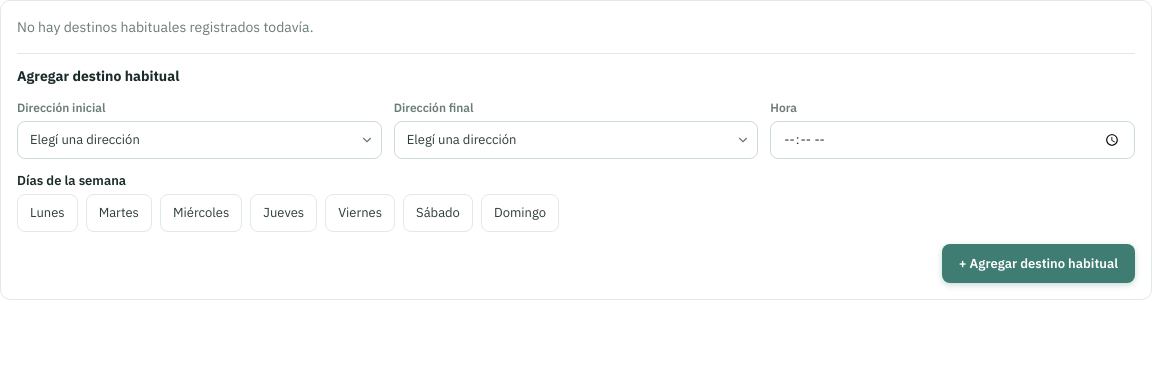
Scenario: RecorridosHabitualesEditor › un error de create() (23503, FK) se muestra traducido, sin agregar el destino a la lista
The width and height of the screenshot is (1152, 371).
Expected: the text "No hay destinos habituales registrados todavía." is shown, [17, 18, 314, 36]
Step 1. Select "Domicilio · Av. Siempreviva 742" in the dropdown labelled "Dirección inicial" → (199, 140), box [17, 121, 382, 158]
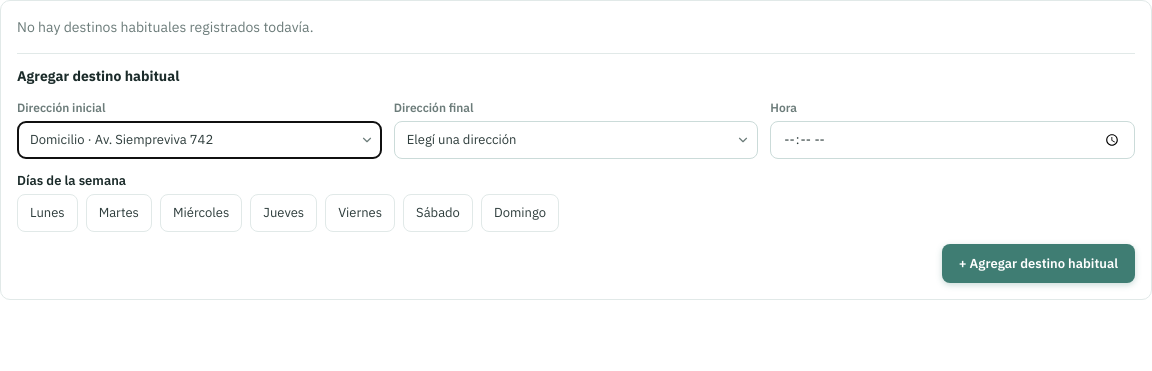
Step 2. Select "Escuela · Belgrano 100" in the dropdown labelled "Dirección final" → (576, 140), box [394, 121, 758, 158]
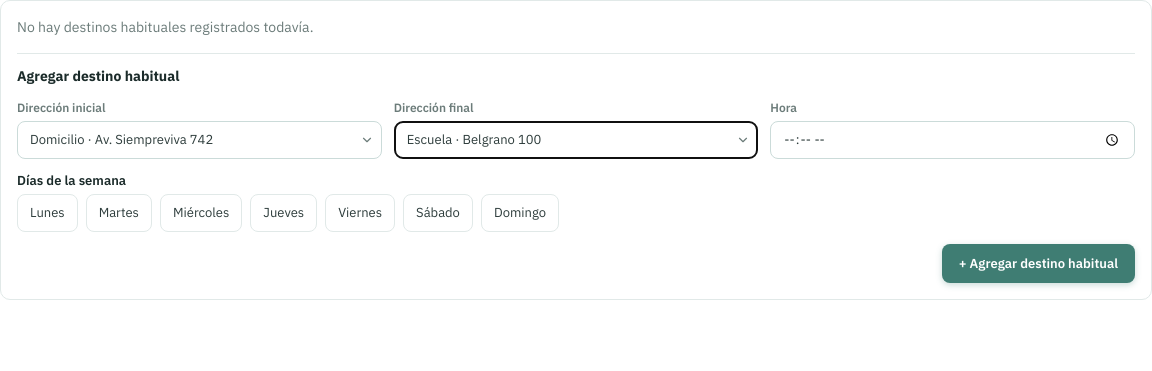
Step 3. Click the checkbox labelled "Lunes" → (47, 213), box [17, 194, 78, 232]
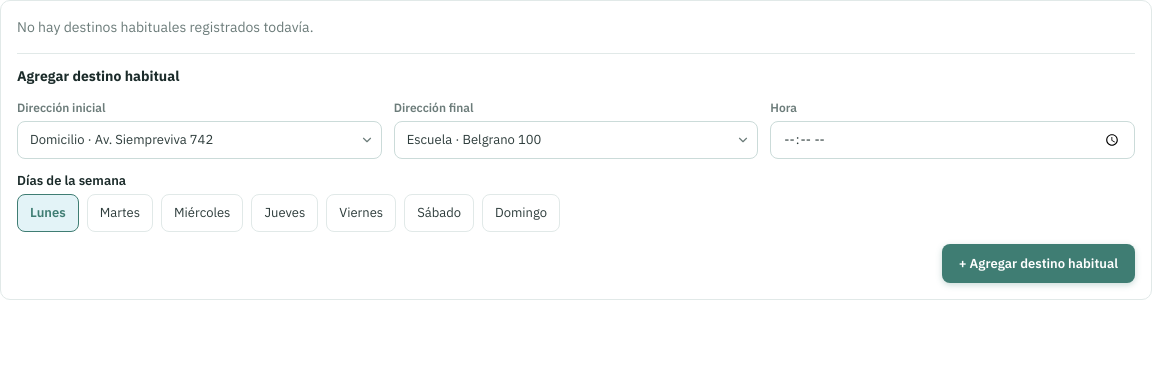
Step 4. Type "09:15" into the time field labelled "Hora" → (953, 140), box [770, 121, 1135, 159]
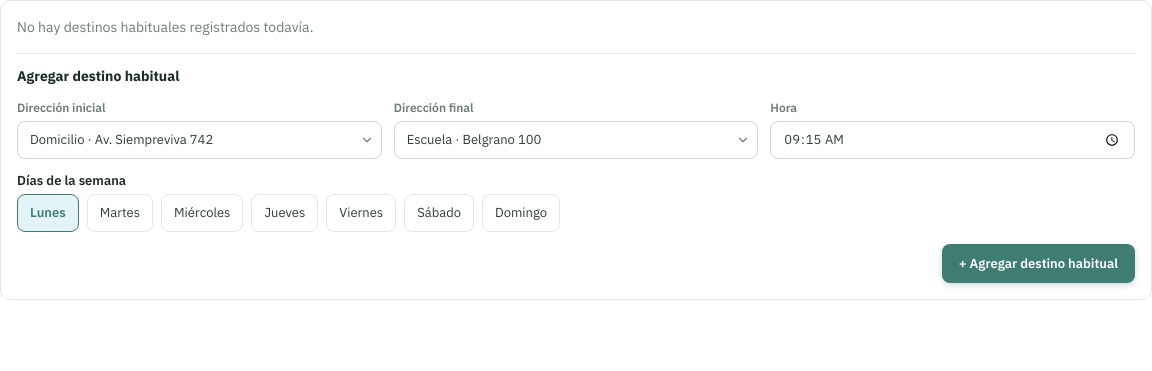
Step 5. Click the button "+ Agregar destino habitual" → (1038, 263), box [942, 244, 1135, 283]
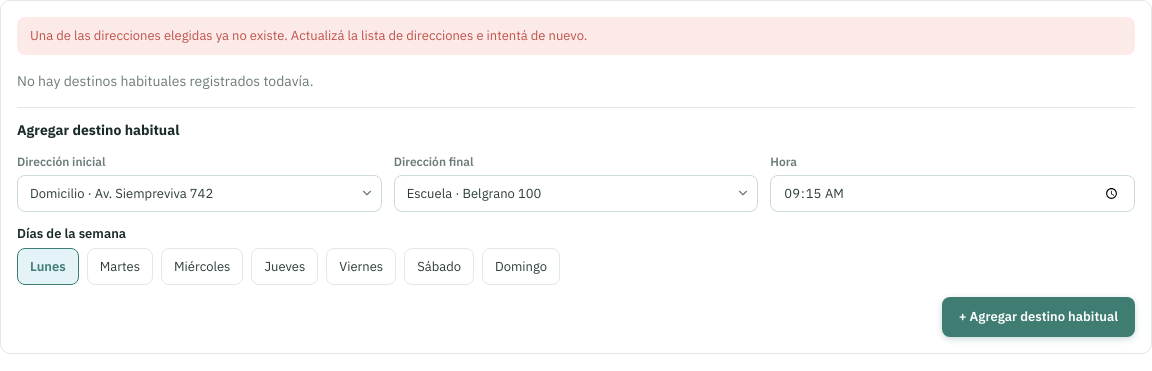
Expected: the text "No hay destinos habituales registrados todavía." is shown, [17, 72, 314, 90]
Now the text "Una de las direcciones elegidas ya no existe. Actualizá la lista de direcciones e intentá de nuevo." is shown, box [30, 27, 587, 44]
